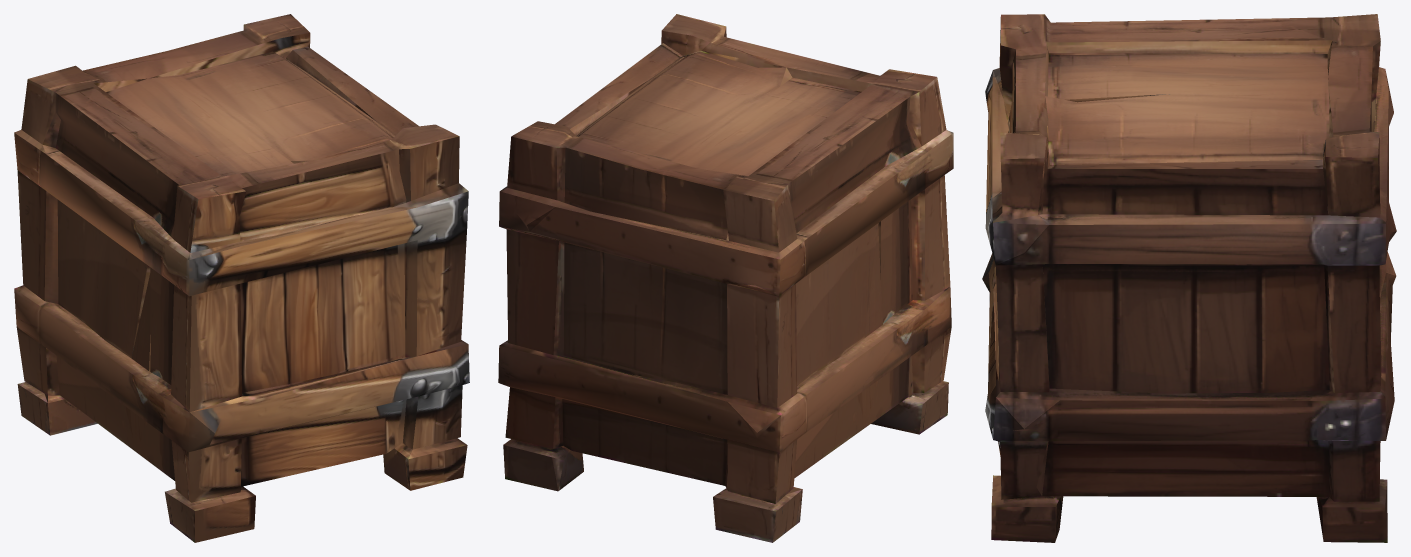
File: crate.glb
The picture shows the model from 3 angles, left to right: view 1: azimuth 30°, elevation 25°; view 2: azimuth 150°, elevation 25°; view 3: azimuth 270°, elevation 25°; orthographic projection. The views are drawn at different scales.
Visible parts, largest first — view 1: Body; view 2: Body; view 3: Body.
Boxes of the visible parts, x1,y1,x2,y2 form: Body: (14,14,469,542); Body: (498,14,953,542); Body: (982,14,1396,542).
Bounding box in the file's own units: 0.7251 × 0.8 × 0.7785.
1 material, 1 textured.
